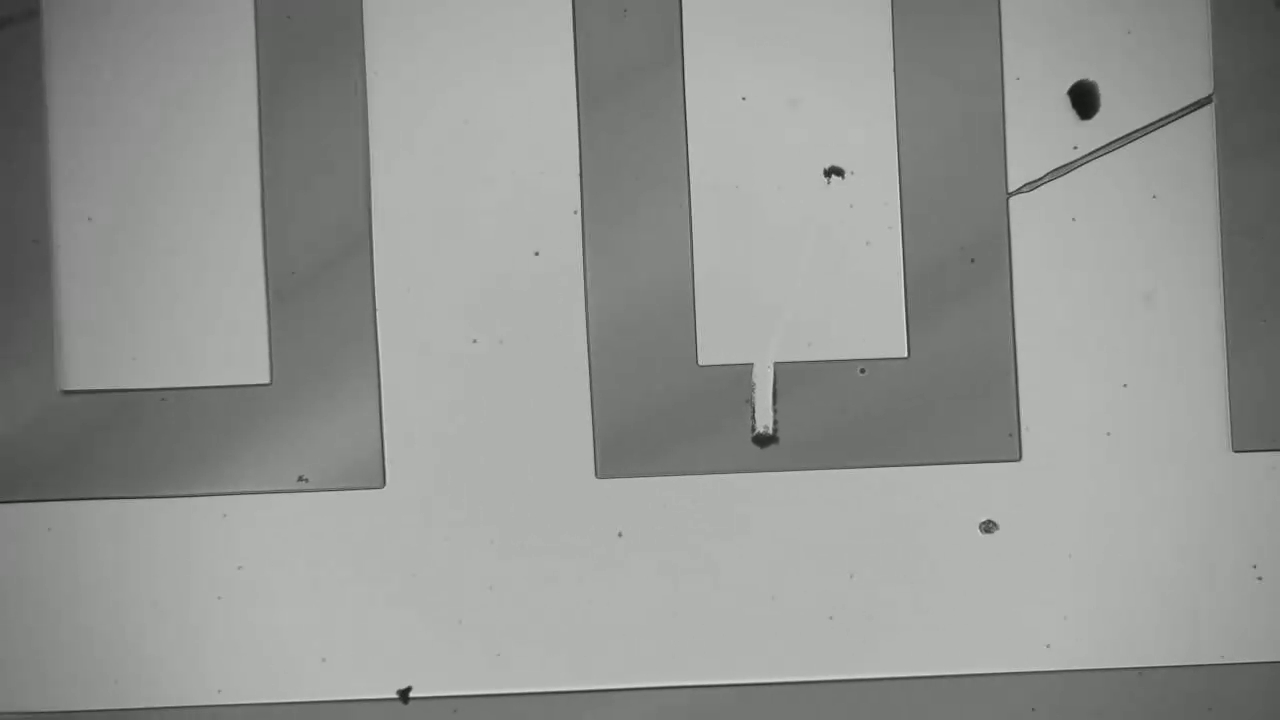Short_circuit: (730, 347, 824, 508)
